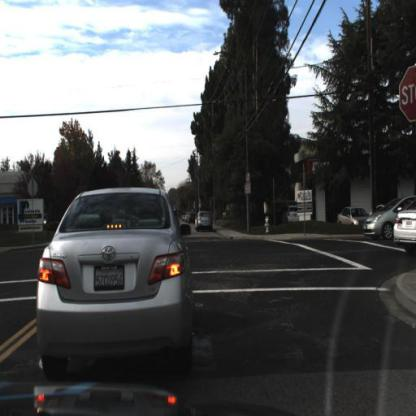car: (37, 184, 194, 387), (368, 198, 416, 237), (336, 204, 371, 230), (193, 206, 215, 235), (282, 203, 306, 227), (283, 205, 299, 223)
